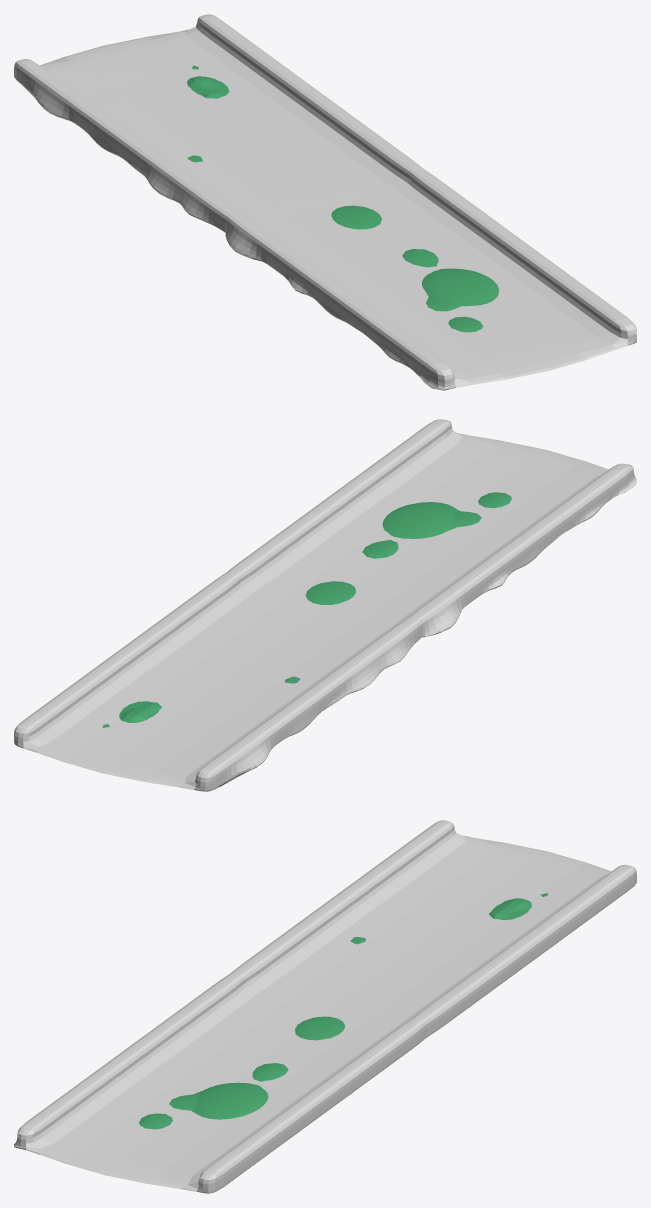
The model's file is meeting_kleur.glb.
3 views of the same model, one above another, from view 1: azimuth 30°, elevation 25°; view 2: azimuth 150°, elevation 25°; view 3: azimuth 330°, elevation 25° (orthographic).
Parts seen in each view (by area): view 1: slijm.000, Mball.030; view 2: slijm.000, Mball.030; view 3: slijm.000, Mball.030.
Boxes of the visible parts, x1=… form: slijm.000: x1=14, y1=14, x2=636, y2=390; Mball.030: x1=187, y1=65, x2=499, y2=332; slijm.000: x1=14, y1=419, x2=636, y2=791; Mball.030: x1=102, y1=492, x2=511, y2=727; slijm.000: x1=14, y1=820, x2=636, y2=1193; Mball.030: x1=139, y1=893, x2=548, y2=1129.
Bounding box in the file's own units: 0.331 × 0.038 × 1.21.
